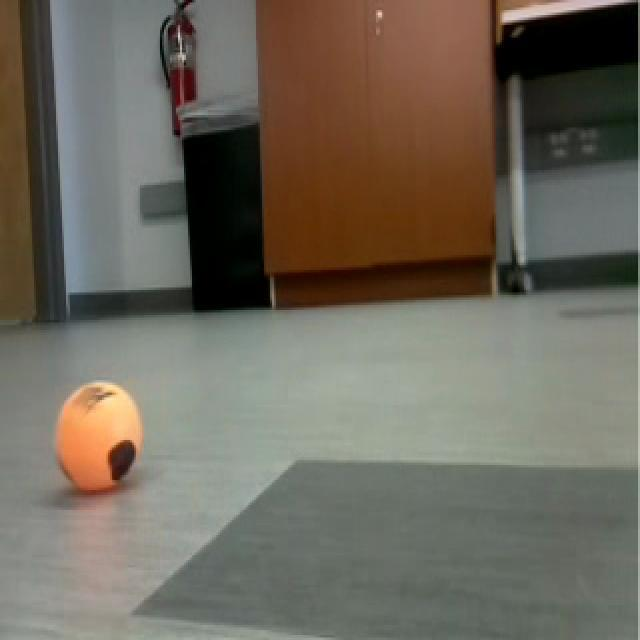oball: (48, 370, 144, 500)
